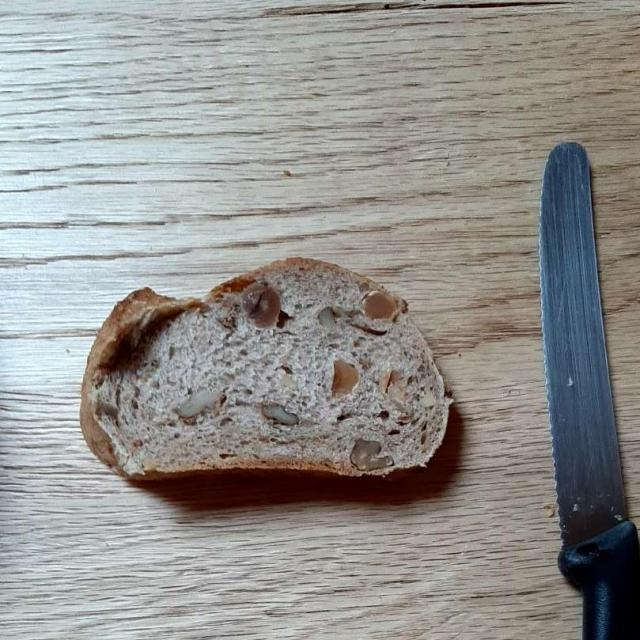bread: (83, 263, 447, 481)
